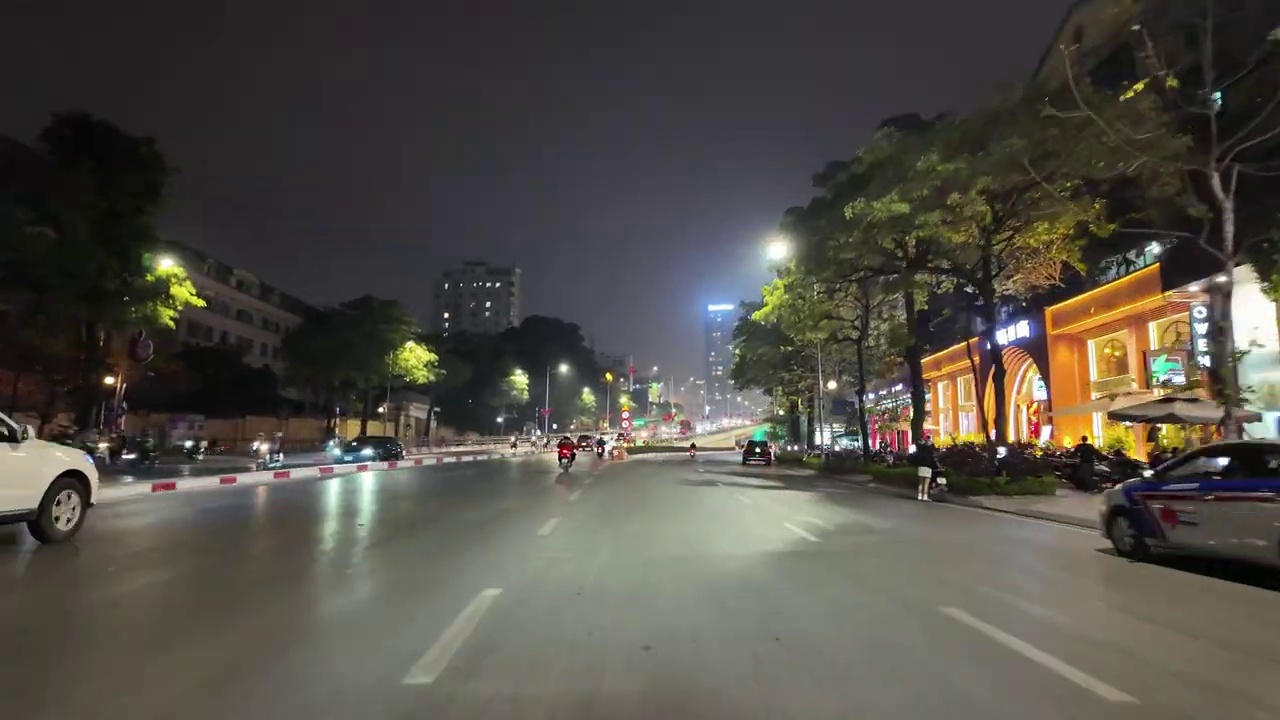acesa: (151, 253, 187, 282), (764, 235, 795, 267), (508, 368, 531, 396), (554, 361, 575, 380)
